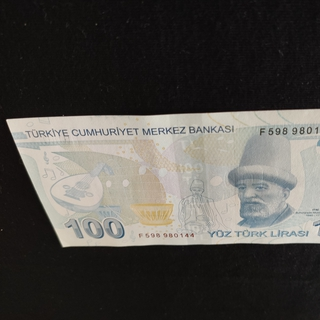100TLBack: (5, 106, 320, 248)
